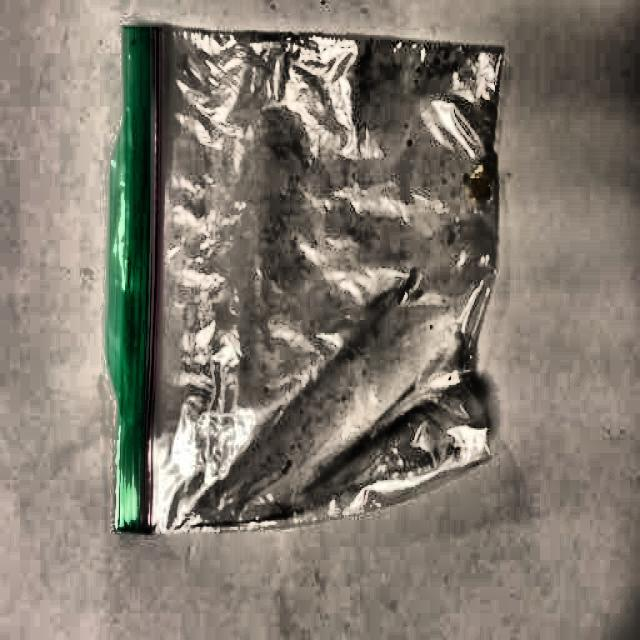plastic: (116, 18, 503, 536)
